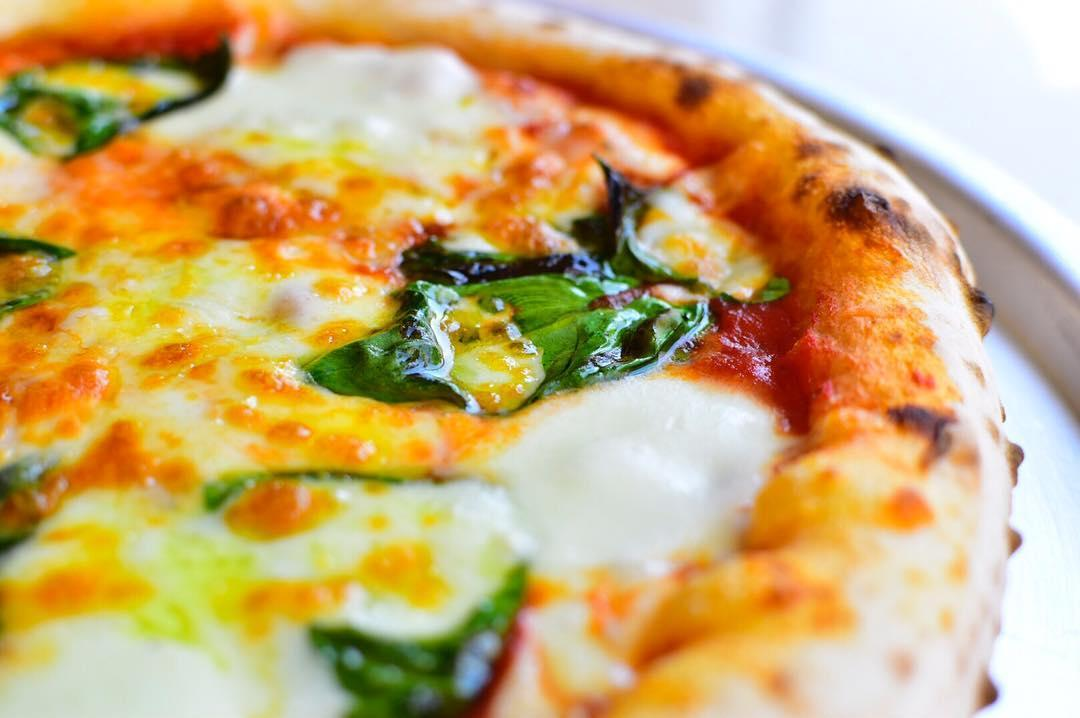Basil: (294, 246, 720, 407), (0, 34, 230, 170), (305, 614, 522, 718), (0, 439, 80, 551), (0, 228, 78, 322)
Cheese: (0, 551, 305, 718), (534, 418, 741, 530), (256, 69, 464, 145)
Pizza: (0, 0, 1009, 718)
